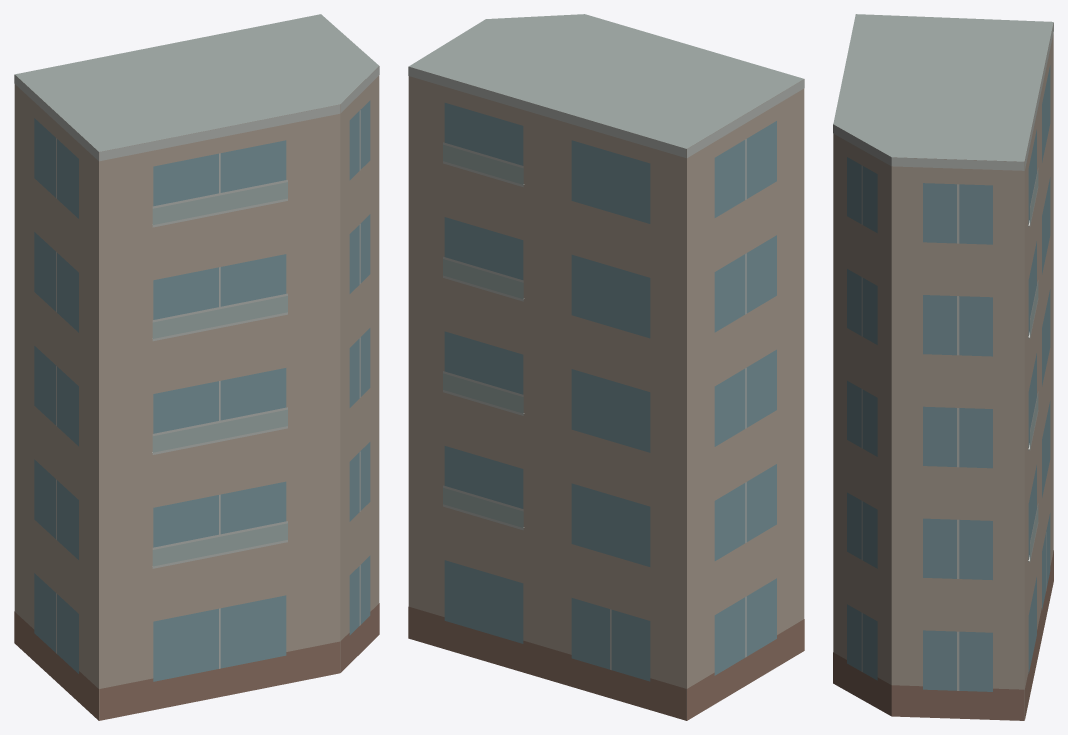
The model's file is survey-upis-32979353.glb.
3 views of the same model, side by side, from view 1: azimuth 30°, elevation 25°; view 2: azimuth 150°, elevation 25°; view 3: azimuth 270°, elevation 25° (orthographic). The views are drawn at different scales.
Visible parts, largest first — view 1: survey-upis-32979353.tmp; view 2: survey-upis-32979353.tmp; view 3: survey-upis-32979353.tmp.
Part boxes in pixels (bbox=[...]): survey-upis-32979353.tmp: bbox=[14, 14, 379, 720]; survey-upis-32979353.tmp: bbox=[408, 14, 804, 720]; survey-upis-32979353.tmp: bbox=[833, 14, 1053, 720].
Size of the model in its own units: 8.42 by 14.85 by 5.32.
